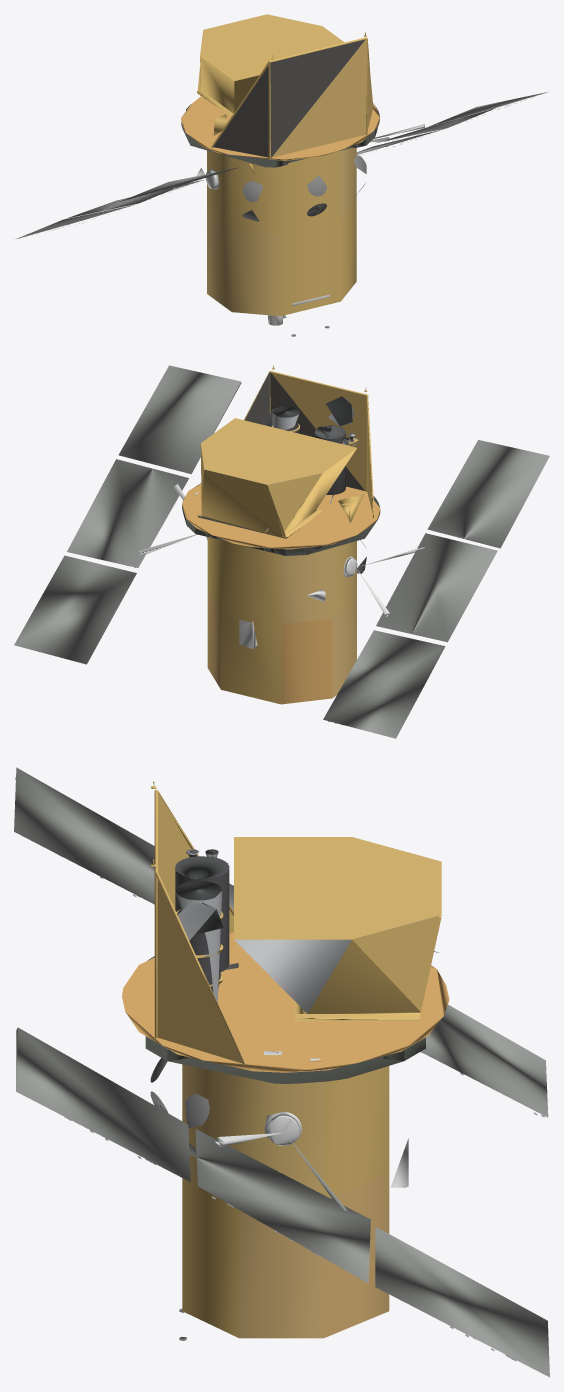
Rendered from swift.glb.
The picture shows the model from 3 angles, top to bottom: view 1: azimuth 30°, elevation 25°; view 2: azimuth 150°, elevation 25°; view 3: azimuth 270°, elevation 25°; orthographic projection. The views are drawn at different scales.
Parts seen in each view (by area): view 1: Fake; view 2: Fake; view 3: Fake.
Boxes of the visible parts, bbox=[...] form: Fake: bbox=[16, 14, 547, 336]; Fake: bbox=[14, 365, 549, 738]; Fake: bbox=[14, 767, 549, 1377].
Size of the model in its own units: 39.92 by 29.33 by 28.25.
Materials: 1 (1 with a texture image).
